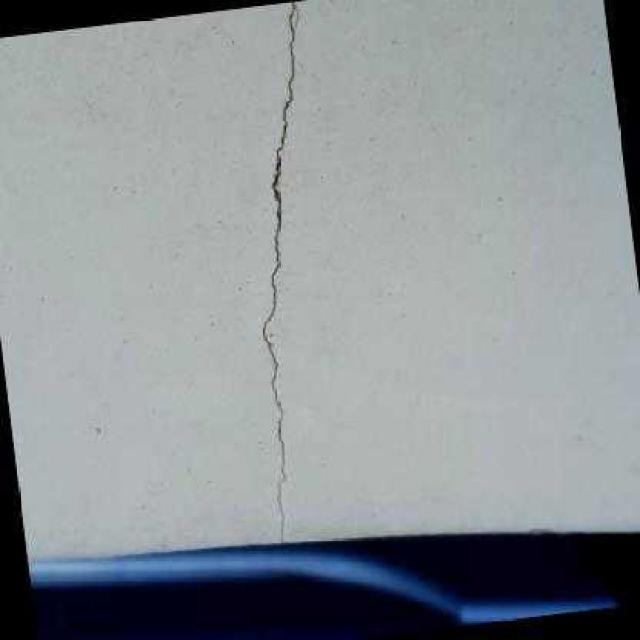D00: (262, 1, 295, 540)
